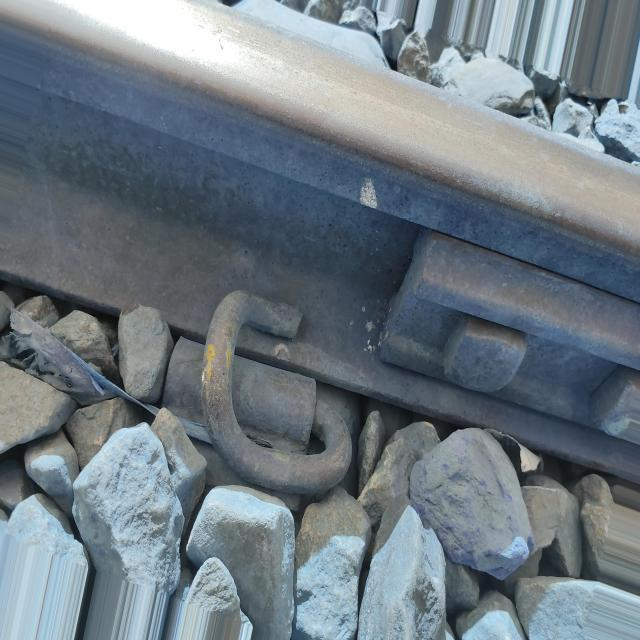Good Fasteners: (136, 276, 376, 538)
